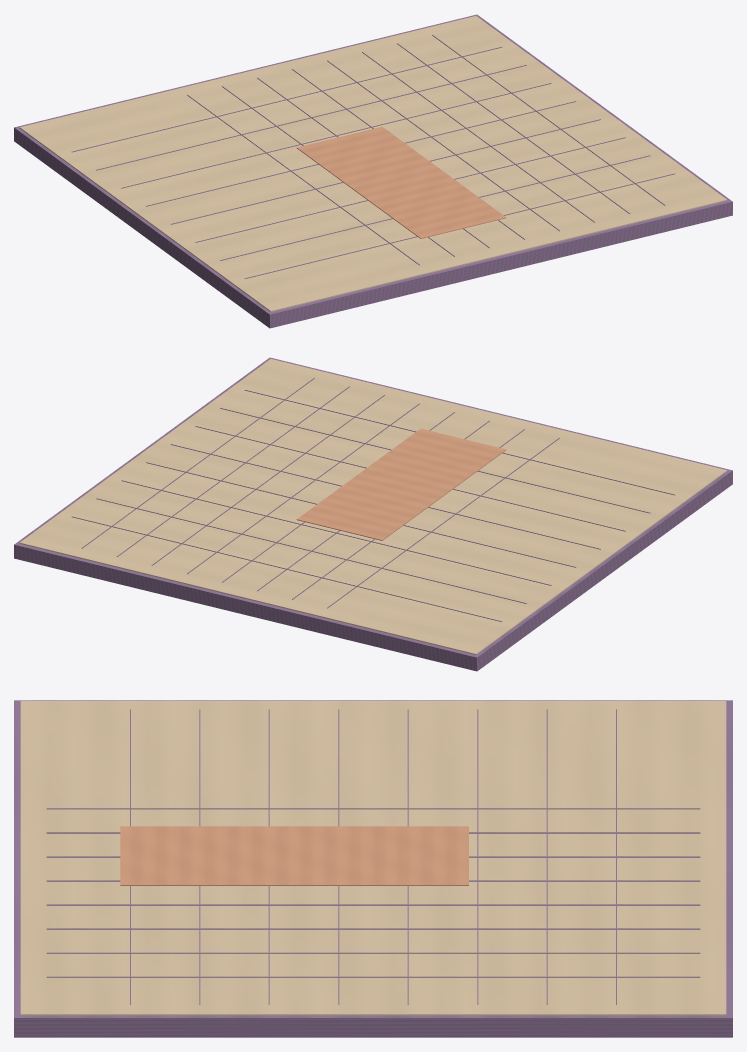
File: atlas100-s081-a07.lod1.glb
3 renders of one model, top to bottom at view 1: azimuth 30°, elevation 25°; view 2: azimuth 150°, elevation 25°; view 3: azimuth 270°, elevation 25°, orthographic. The views are drawn at different scales.
Parts seen in each view (by area): view 1: atlas100-s081-a07:part-001, atlas100-s081-a07:part-000, atlas100-s081-a07:part-021, atlas100-s081-a07:part-013, atlas100-s081-a07:part-014, atlas100-s081-a07:part-015, atlas100-s081-a07:part-020, atlas100-s081-a07:part-019, atlas100-s081-a07:part-018, atlas100-s081-a07:part-016, atlas100-s081-a07:part-017; view 2: atlas100-s081-a07:part-001, atlas100-s081-a07:part-000, atlas100-s081-a07:part-021, atlas100-s081-a07:part-013, atlas100-s081-a07:part-015, atlas100-s081-a07:part-014, atlas100-s081-a07:part-020, atlas100-s081-a07:part-016, atlas100-s081-a07:part-017, atlas100-s081-a07:part-018, atlas100-s081-a07:part-019; view 3: atlas100-s081-a07:part-001, atlas100-s081-a07:part-000, atlas100-s081-a07:part-021, atlas100-s081-a07:part-010, atlas100-s081-a07:part-009, atlas100-s081-a07:part-012, atlas100-s081-a07:part-005, atlas100-s081-a07:part-011, atlas100-s081-a07:part-006, atlas100-s081-a07:part-007, atlas100-s081-a07:part-008, atlas100-s081-a07:part-014 (+1 smaller).
Part boxes in pixels (x1,y1,x2,y2): atlas100-s081-a07:part-001: [19, 16, 727, 311]; atlas100-s081-a07:part-000: [14, 14, 732, 328]; atlas100-s081-a07:part-021: [297, 126, 506, 238]; atlas100-s081-a07:part-013: [72, 47, 502, 152]; atlas100-s081-a07:part-014: [96, 65, 526, 170]; atlas100-s081-a07:part-015: [121, 83, 551, 188]; atlas100-s081-a07:part-020: [244, 173, 674, 278]; atlas100-s081-a07:part-019: [220, 155, 650, 260]; atlas100-s081-a07:part-018: [195, 137, 625, 242]; atlas100-s081-a07:part-016: [146, 101, 576, 206]; atlas100-s081-a07:part-017: [170, 119, 600, 224]; atlas100-s081-a07:part-001: [19, 359, 727, 654]; atlas100-s081-a07:part-000: [14, 357, 732, 671]; atlas100-s081-a07:part-021: [296, 428, 506, 540]; atlas100-s081-a07:part-013: [72, 516, 502, 621]; atlas100-s081-a07:part-015: [121, 480, 551, 585]; atlas100-s081-a07:part-014: [96, 498, 526, 603]; atlas100-s081-a07:part-020: [244, 390, 674, 495]; atlas100-s081-a07:part-016: [146, 462, 576, 567]; atlas100-s081-a07:part-017: [170, 444, 600, 549]; atlas100-s081-a07:part-018: [195, 426, 625, 531]; atlas100-s081-a07:part-019: [220, 408, 650, 513]; atlas100-s081-a07:part-001: [20, 701, 726, 1015]; atlas100-s081-a07:part-000: [14, 700, 732, 1037]; atlas100-s081-a07:part-021: [120, 826, 468, 885]; atlas100-s081-a07:part-010: [46, 928, 700, 929]; atlas100-s081-a07:part-009: [46, 904, 700, 905]; atlas100-s081-a07:part-012: [46, 976, 700, 977]; atlas100-s081-a07:part-005: [46, 808, 700, 809]; atlas100-s081-a07:part-011: [46, 952, 700, 953]; atlas100-s081-a07:part-006: [46, 832, 700, 833]; atlas100-s081-a07:part-007: [46, 856, 700, 857]; atlas100-s081-a07:part-008: [46, 880, 700, 881]; atlas100-s081-a07:part-014: [546, 709, 547, 1004].
Bounding box in the file's own units: 11.9 × 0.404 × 11.39.
Materials: 3 (3 with a texture image).
